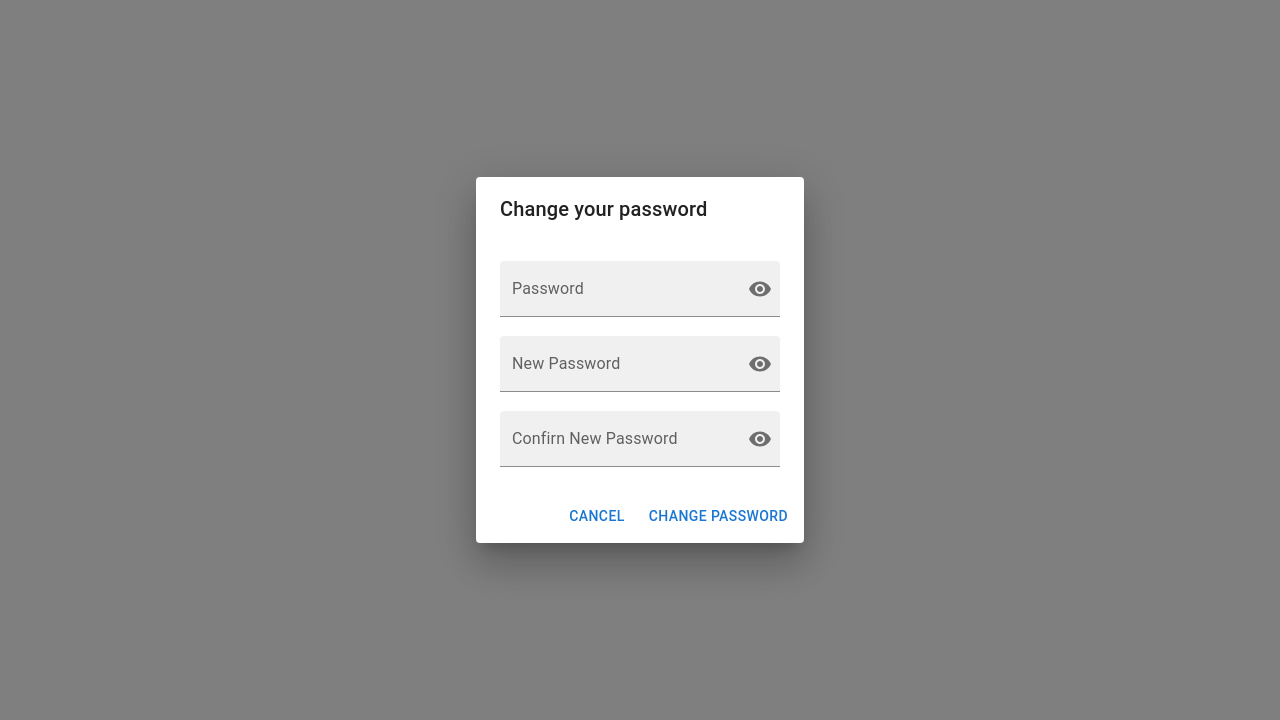
Scenario: ChangePasswordDialog: › Tests with requests: › Should show password error message and stops loading on delete failure.
This screenshot has width=1280, height=720.
// User fills all inputs correctly
Type "password" into the password field with placeholder "Password you logged in".
click(616, 289); type("password")  # box top-left (500, 261), bottom-right (732, 317)
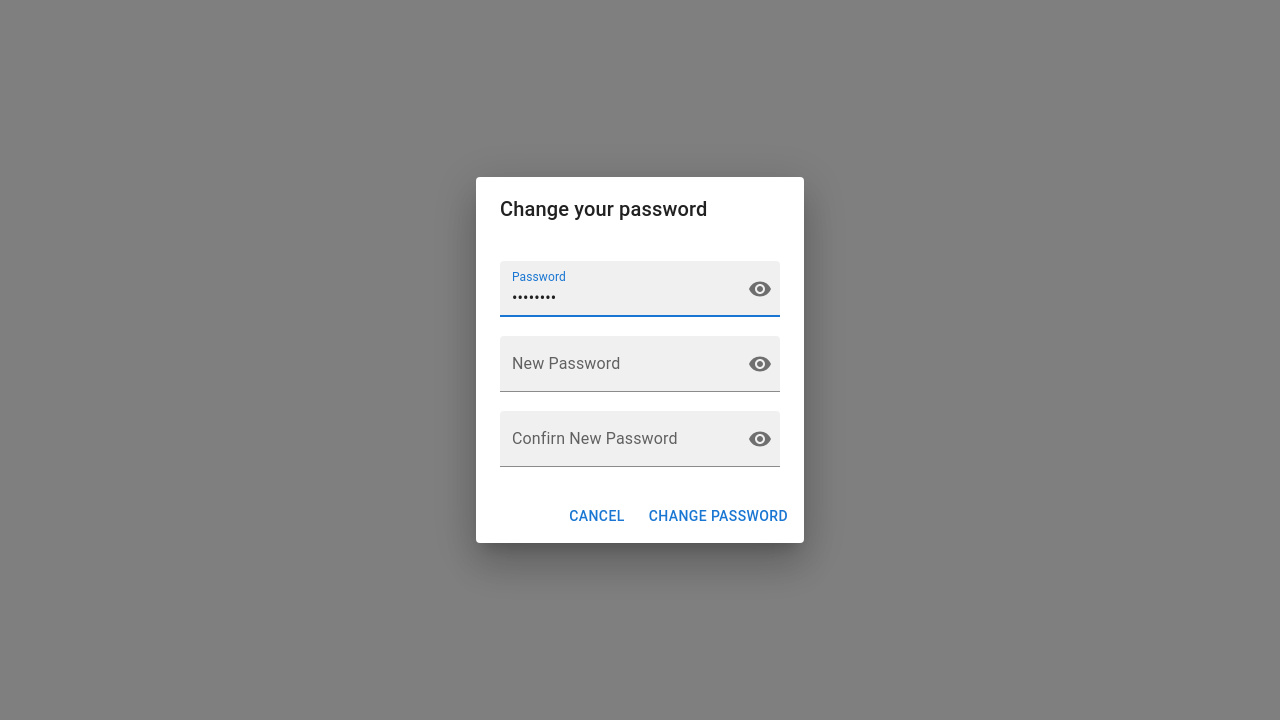
Type "password" into the password field with placeholder "Min. 8 characters".
click(616, 364); type("password")  # box top-left (500, 336), bottom-right (732, 392)
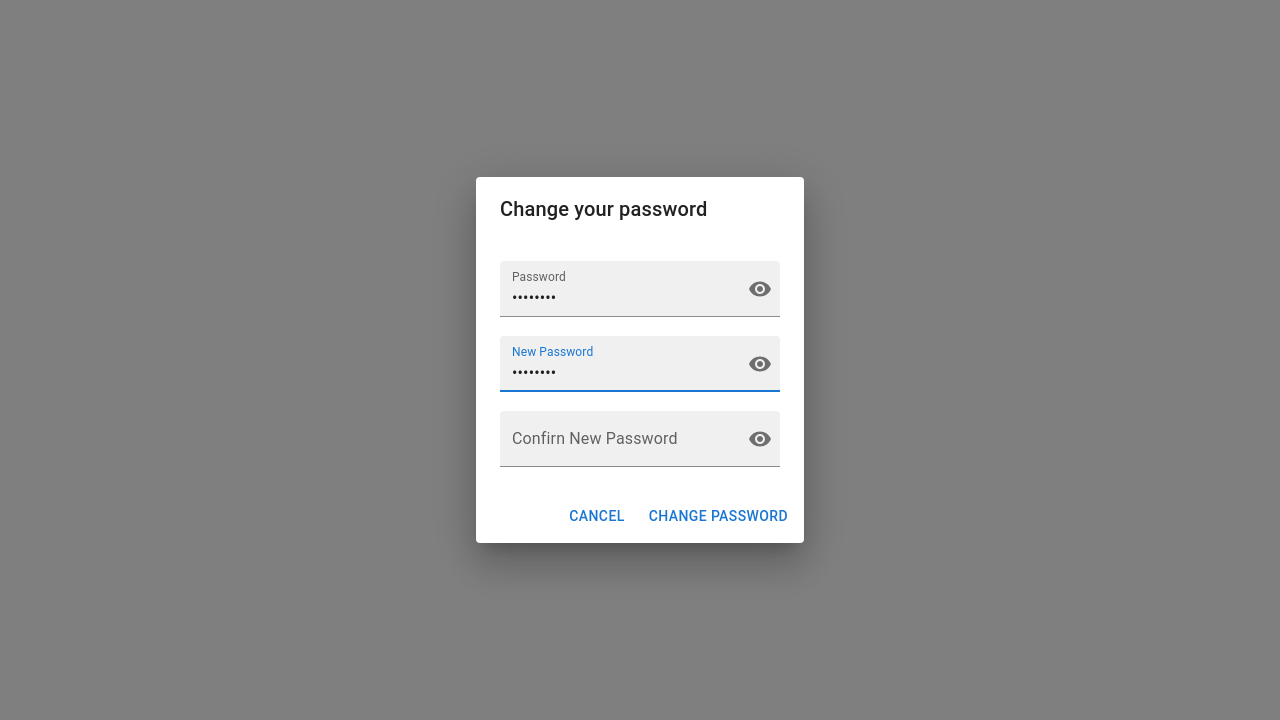
Type "password" into the password field with placeholder "New password confirmation".
click(616, 439); type("password")  # box top-left (500, 411), bottom-right (732, 467)
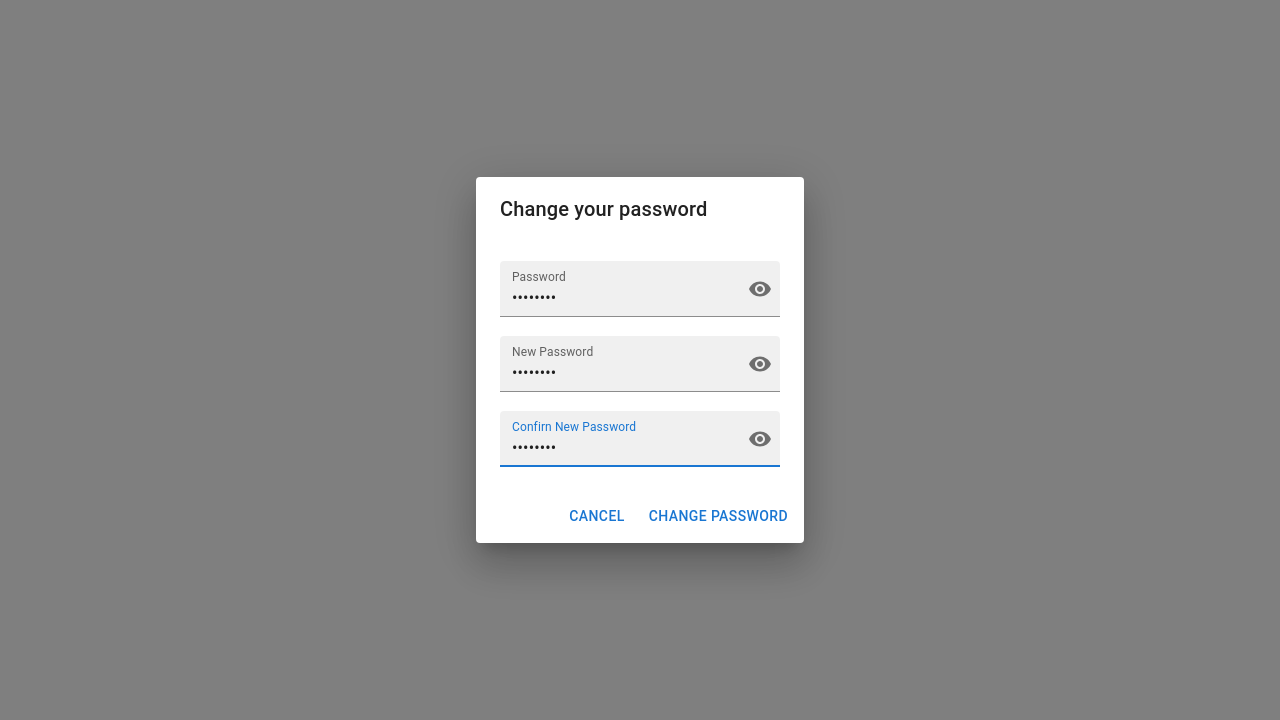
Click the button "Change Password".
click(718, 517)  # box top-left (641, 498), bottom-right (796, 535)
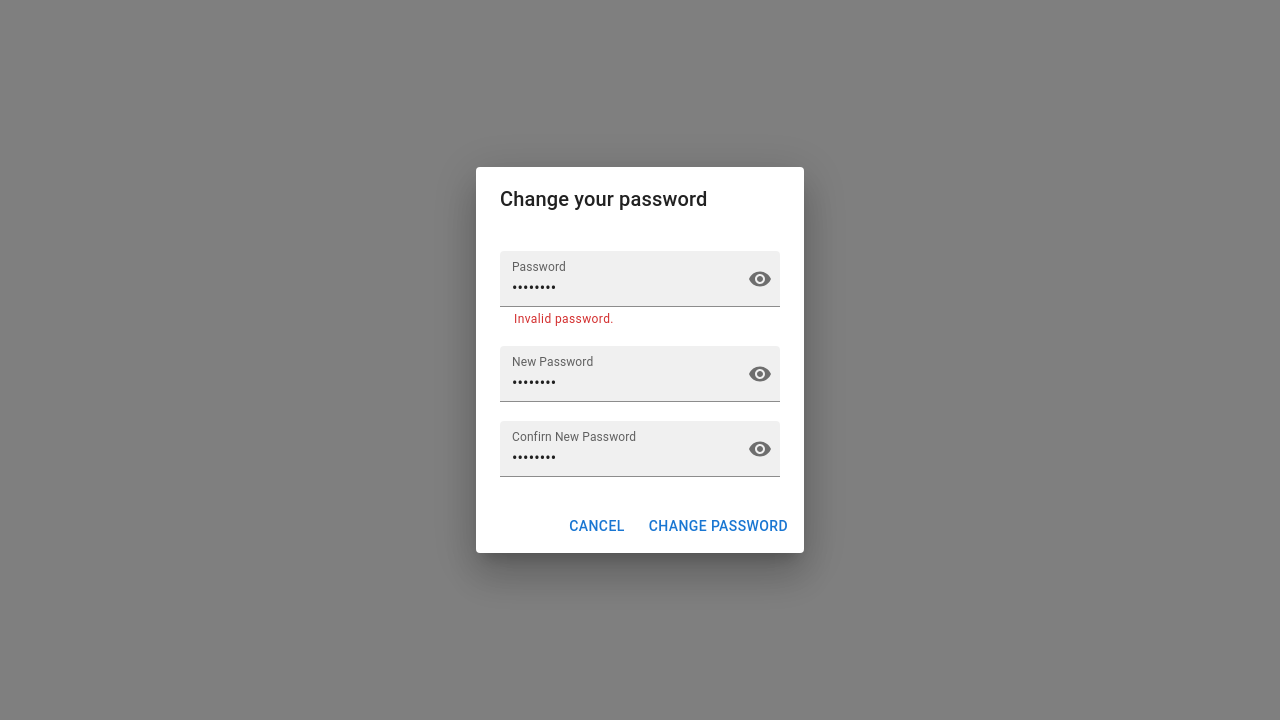
Expected: the button "Change Password" is enabled, top-left (641, 508), bottom-right (796, 545)
Now the text "Invalid password." is shown, box top-left (514, 312), bottom-right (614, 326)
